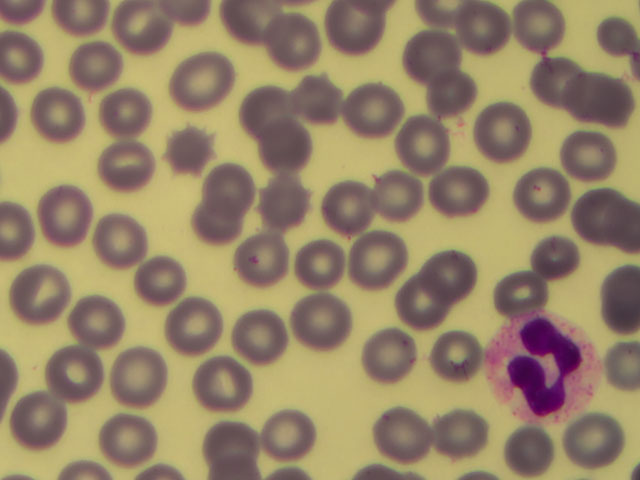RBC: (67, 40, 127, 94), (34, 86, 94, 140), (100, 82, 160, 136), (93, 138, 153, 192), (39, 185, 99, 239), (83, 209, 143, 263), (14, 270, 74, 324), (74, 289, 134, 343), (123, 255, 183, 309), (167, 297, 227, 351), (109, 343, 169, 397), (50, 343, 110, 397), (7, 388, 67, 442), (99, 411, 159, 465), (191, 356, 251, 410), (226, 310, 286, 364), (284, 292, 344, 346), (228, 237, 288, 291), (188, 196, 248, 250), (201, 154, 261, 208), (165, 119, 225, 173), (170, 48, 230, 102), (115, 3, 175, 57), (266, 13, 326, 67), (329, 2, 389, 56), (345, 83, 405, 137), (295, 70, 355, 124), (234, 80, 294, 134), (261, 124, 321, 178), (256, 178, 316, 232), (318, 181, 378, 235), (358, 170, 418, 224), (396, 124, 456, 178), (421, 68, 481, 122), (405, 34, 465, 88), (512, 5, 572, 59), (528, 49, 588, 103), (568, 67, 628, 121), (477, 102, 537, 156), (432, 161, 492, 215), (346, 231, 406, 285), (295, 235, 355, 289), (422, 242, 482, 296), (389, 275, 449, 329), (361, 332, 421, 386), (428, 328, 488, 382), (439, 403, 499, 457), (502, 425, 562, 479), (567, 413, 627, 467), (375, 405, 435, 459), (256, 408, 316, 462), (195, 418, 255, 472), (512, 171, 572, 225), (558, 127, 618, 181), (570, 187, 630, 241), (525, 228, 585, 282), (489, 263, 549, 317), (216, 1, 276, 54), (456, 1, 516, 53)
WBC: (477, 311, 603, 426)
